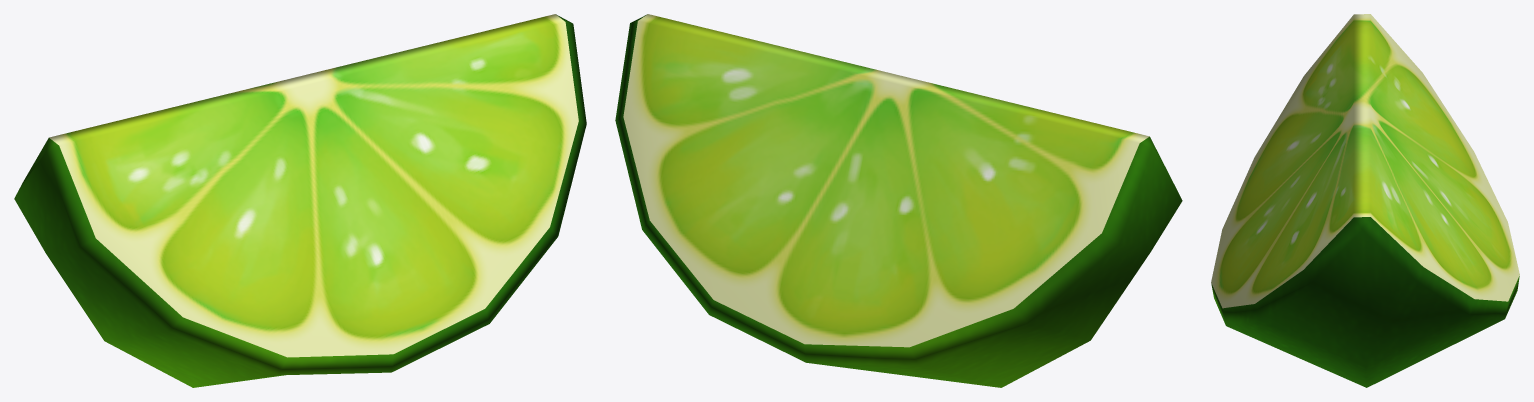
Rendered from Lime_Quarter.fbx.
3 renders of one model, left to right at view 1: azimuth 30°, elevation 25°; view 2: azimuth 150°, elevation 25°; view 3: azimuth 270°, elevation 25°, orthographic. The views are drawn at different scales.
Parts seen in each view (by area): view 1: Lime_Quarter; view 2: Lime_Quarter; view 3: Lime_Quarter.
Part boxes in pixels (x1,y1,x2,y2): Lime_Quarter: (14, 14, 586, 387); Lime_Quarter: (615, 14, 1182, 387); Lime_Quarter: (1211, 14, 1519, 387).
Size of the model in its own units: 21.39 by 11.43 by 13.22.
